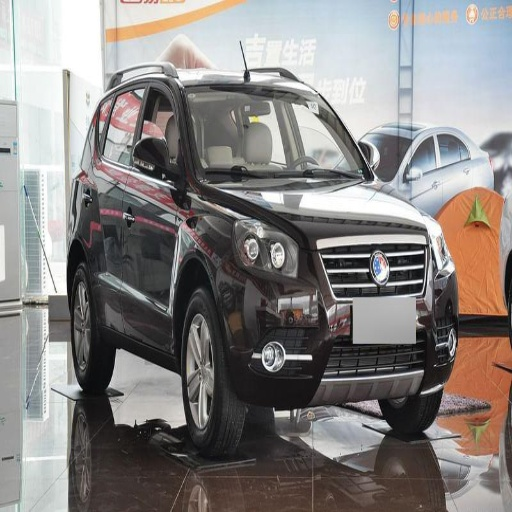front_bumper: (221, 234, 457, 399)
front_right_door: (123, 78, 184, 311)
front_right_light: (236, 217, 303, 281)
hood: (221, 178, 428, 248)
